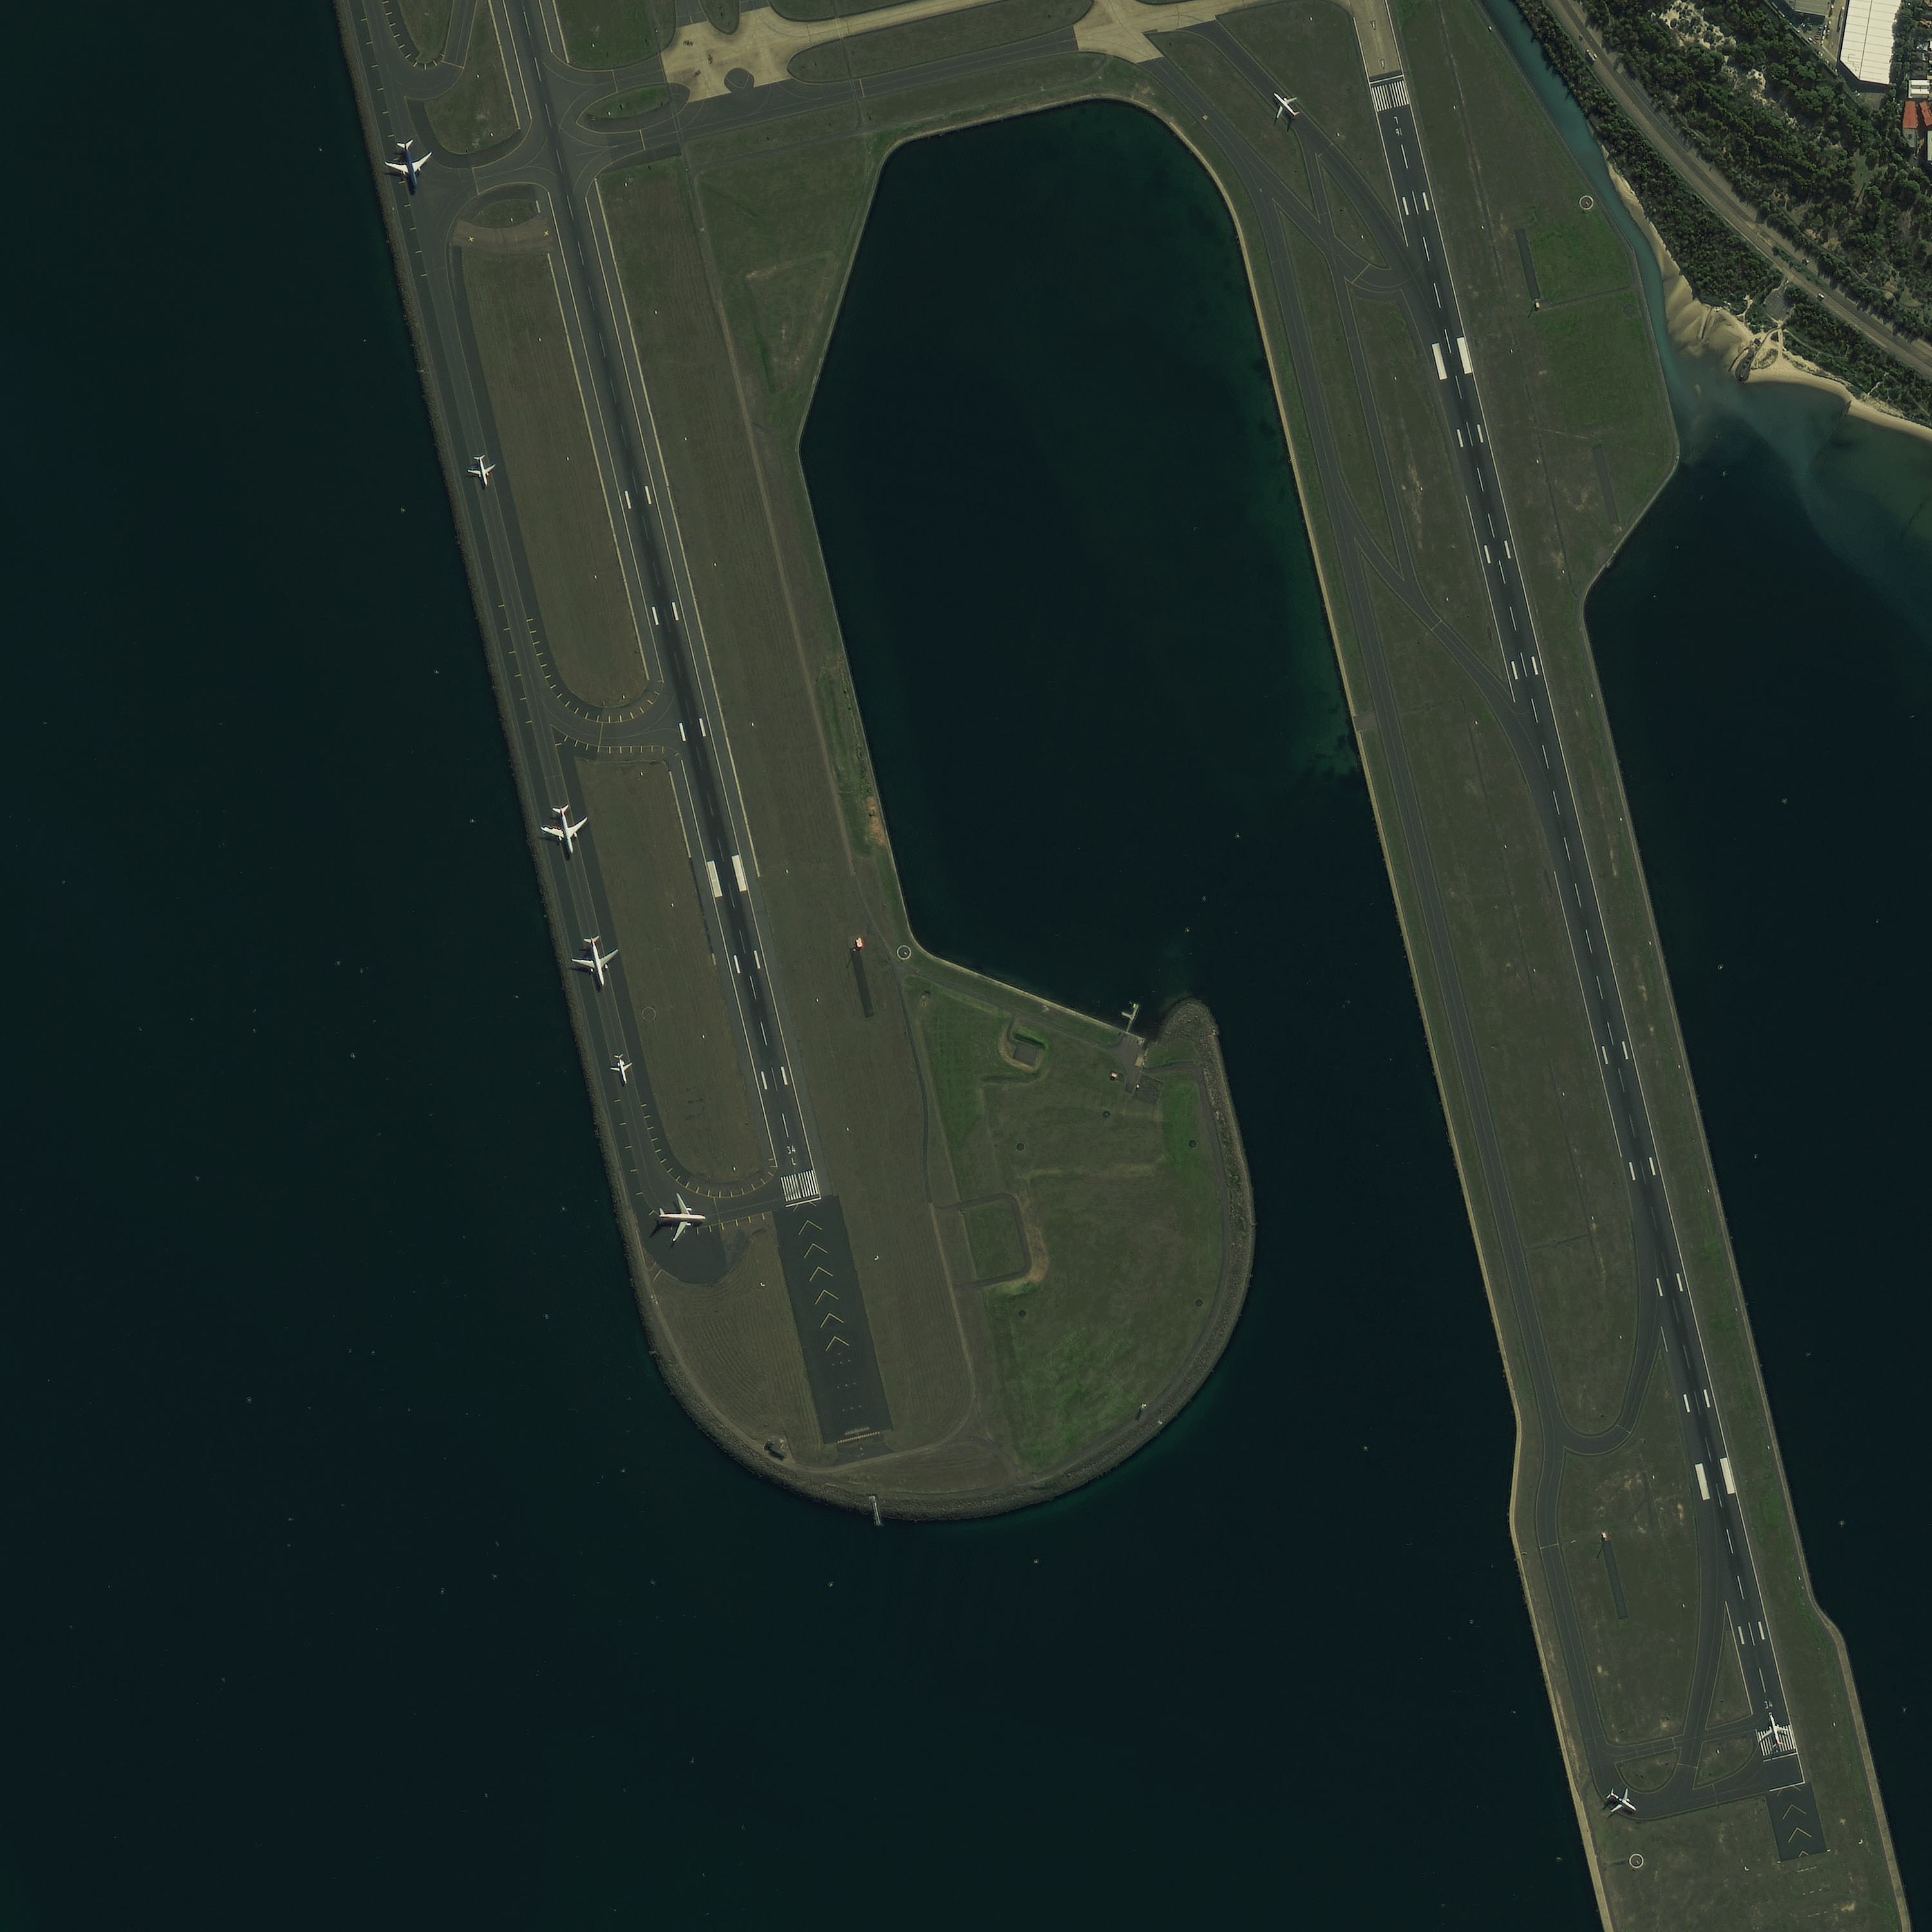A20: (68, 181, 131, 229), (121, 184, 186, 230), (156, 354, 227, 396), (39, 128, 108, 169), (182, 370, 251, 412), (111, 391, 182, 432), (98, 107, 170, 146), (133, 151, 205, 189), (100, 358, 166, 397), (77, 137, 149, 176), (39, 169, 112, 207), (215, 314, 287, 350), (149, 301, 218, 337), (191, 109, 257, 147), (93, 330, 156, 366), (133, 133, 195, 166), (154, 330, 223, 361)
